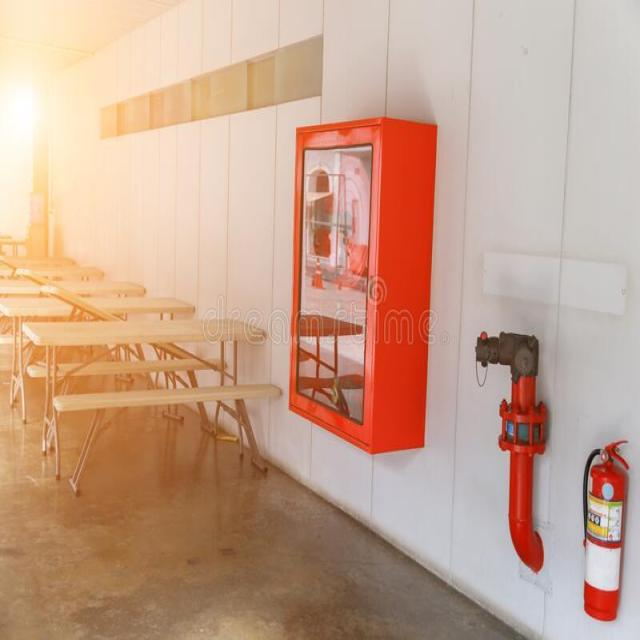fire_extinguisher: (574, 432, 635, 627)
